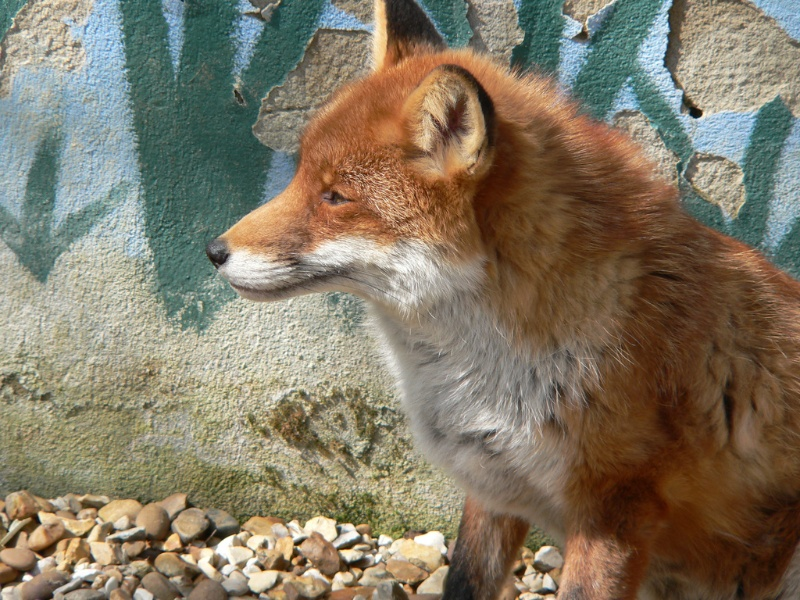fox: (203, 48, 797, 593)
